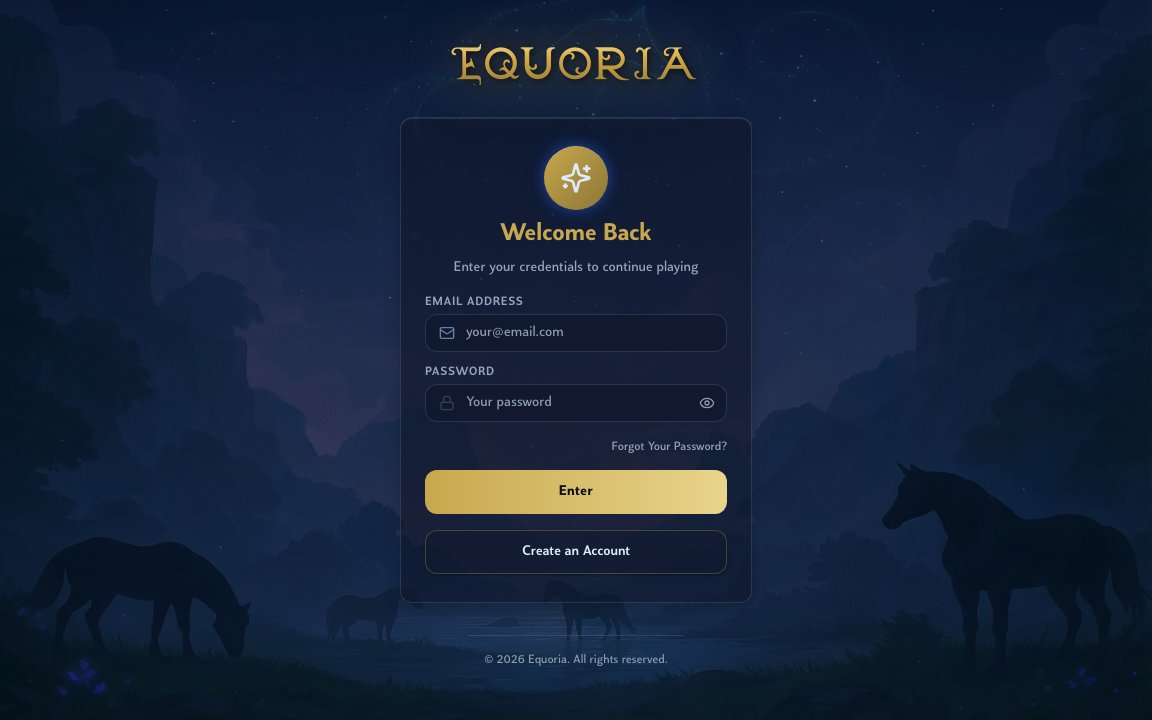
it: LoginPage › AC-2: Client-Side Validation › shows error for empty email
Note: Fill only the password field, leave email empty
In the password field labelled "Password": coordinates (576, 402) [425, 384, 727, 422], type "ValidPass123"
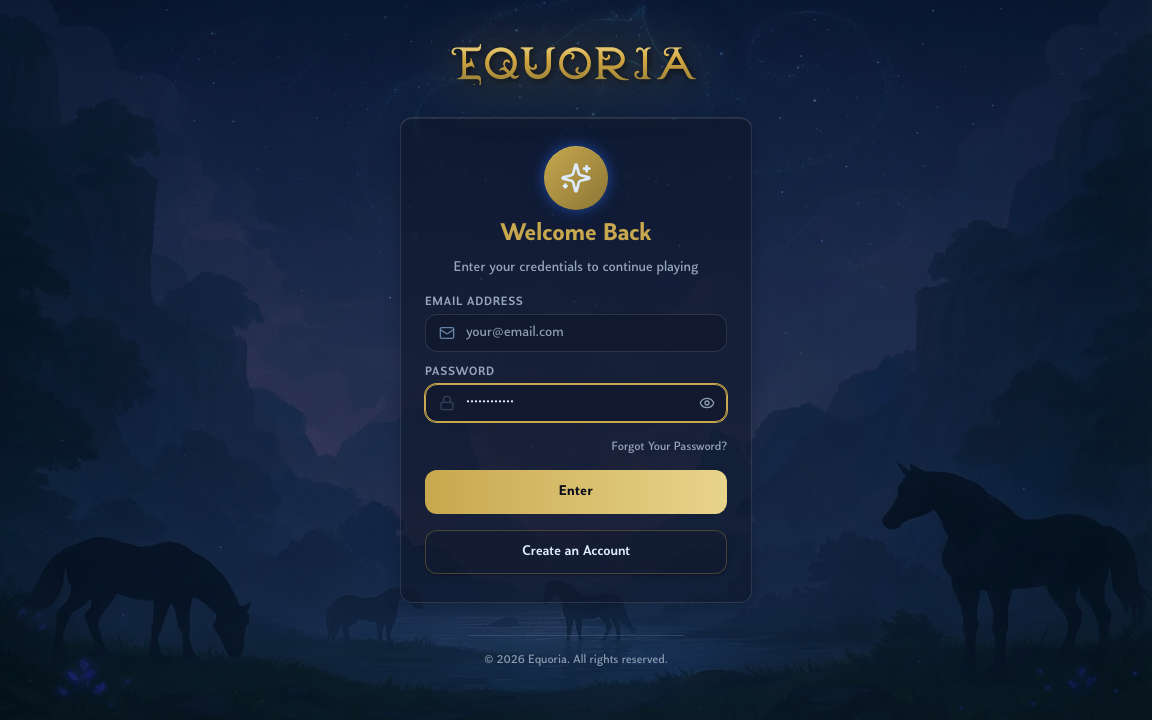
Note: Submit form
Submit the form, box [425, 294, 727, 514]
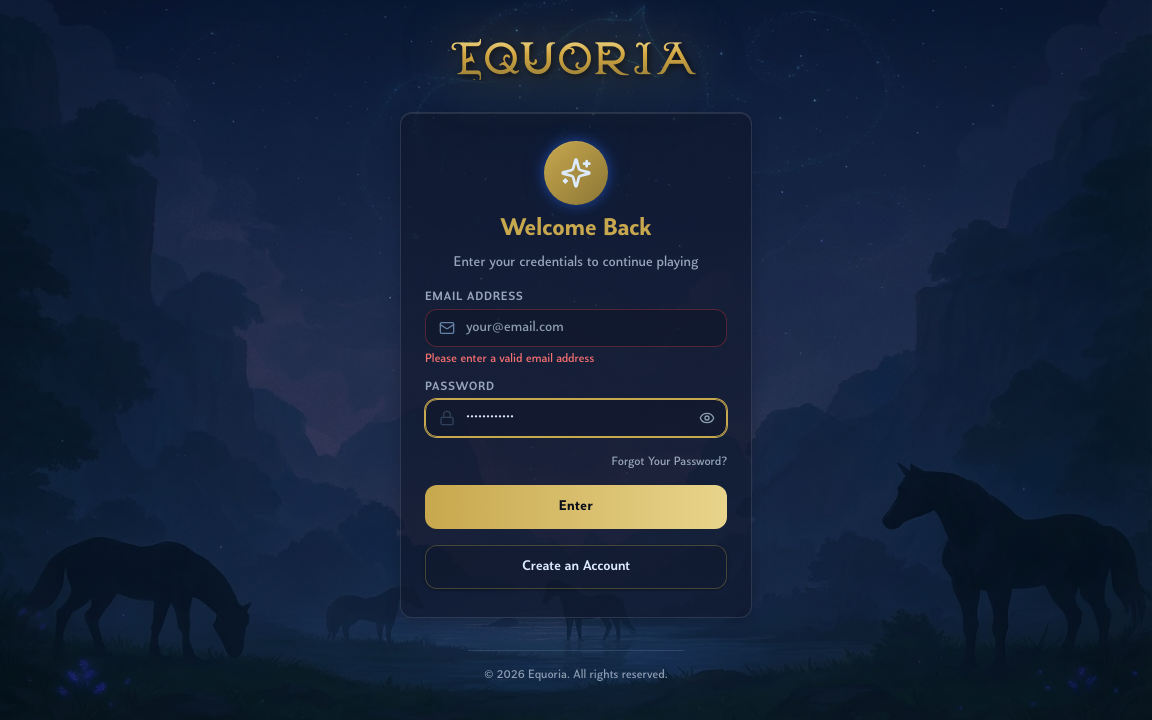
Check: the text "Please enter a valid email address" is shown, box [425, 353, 594, 365]
